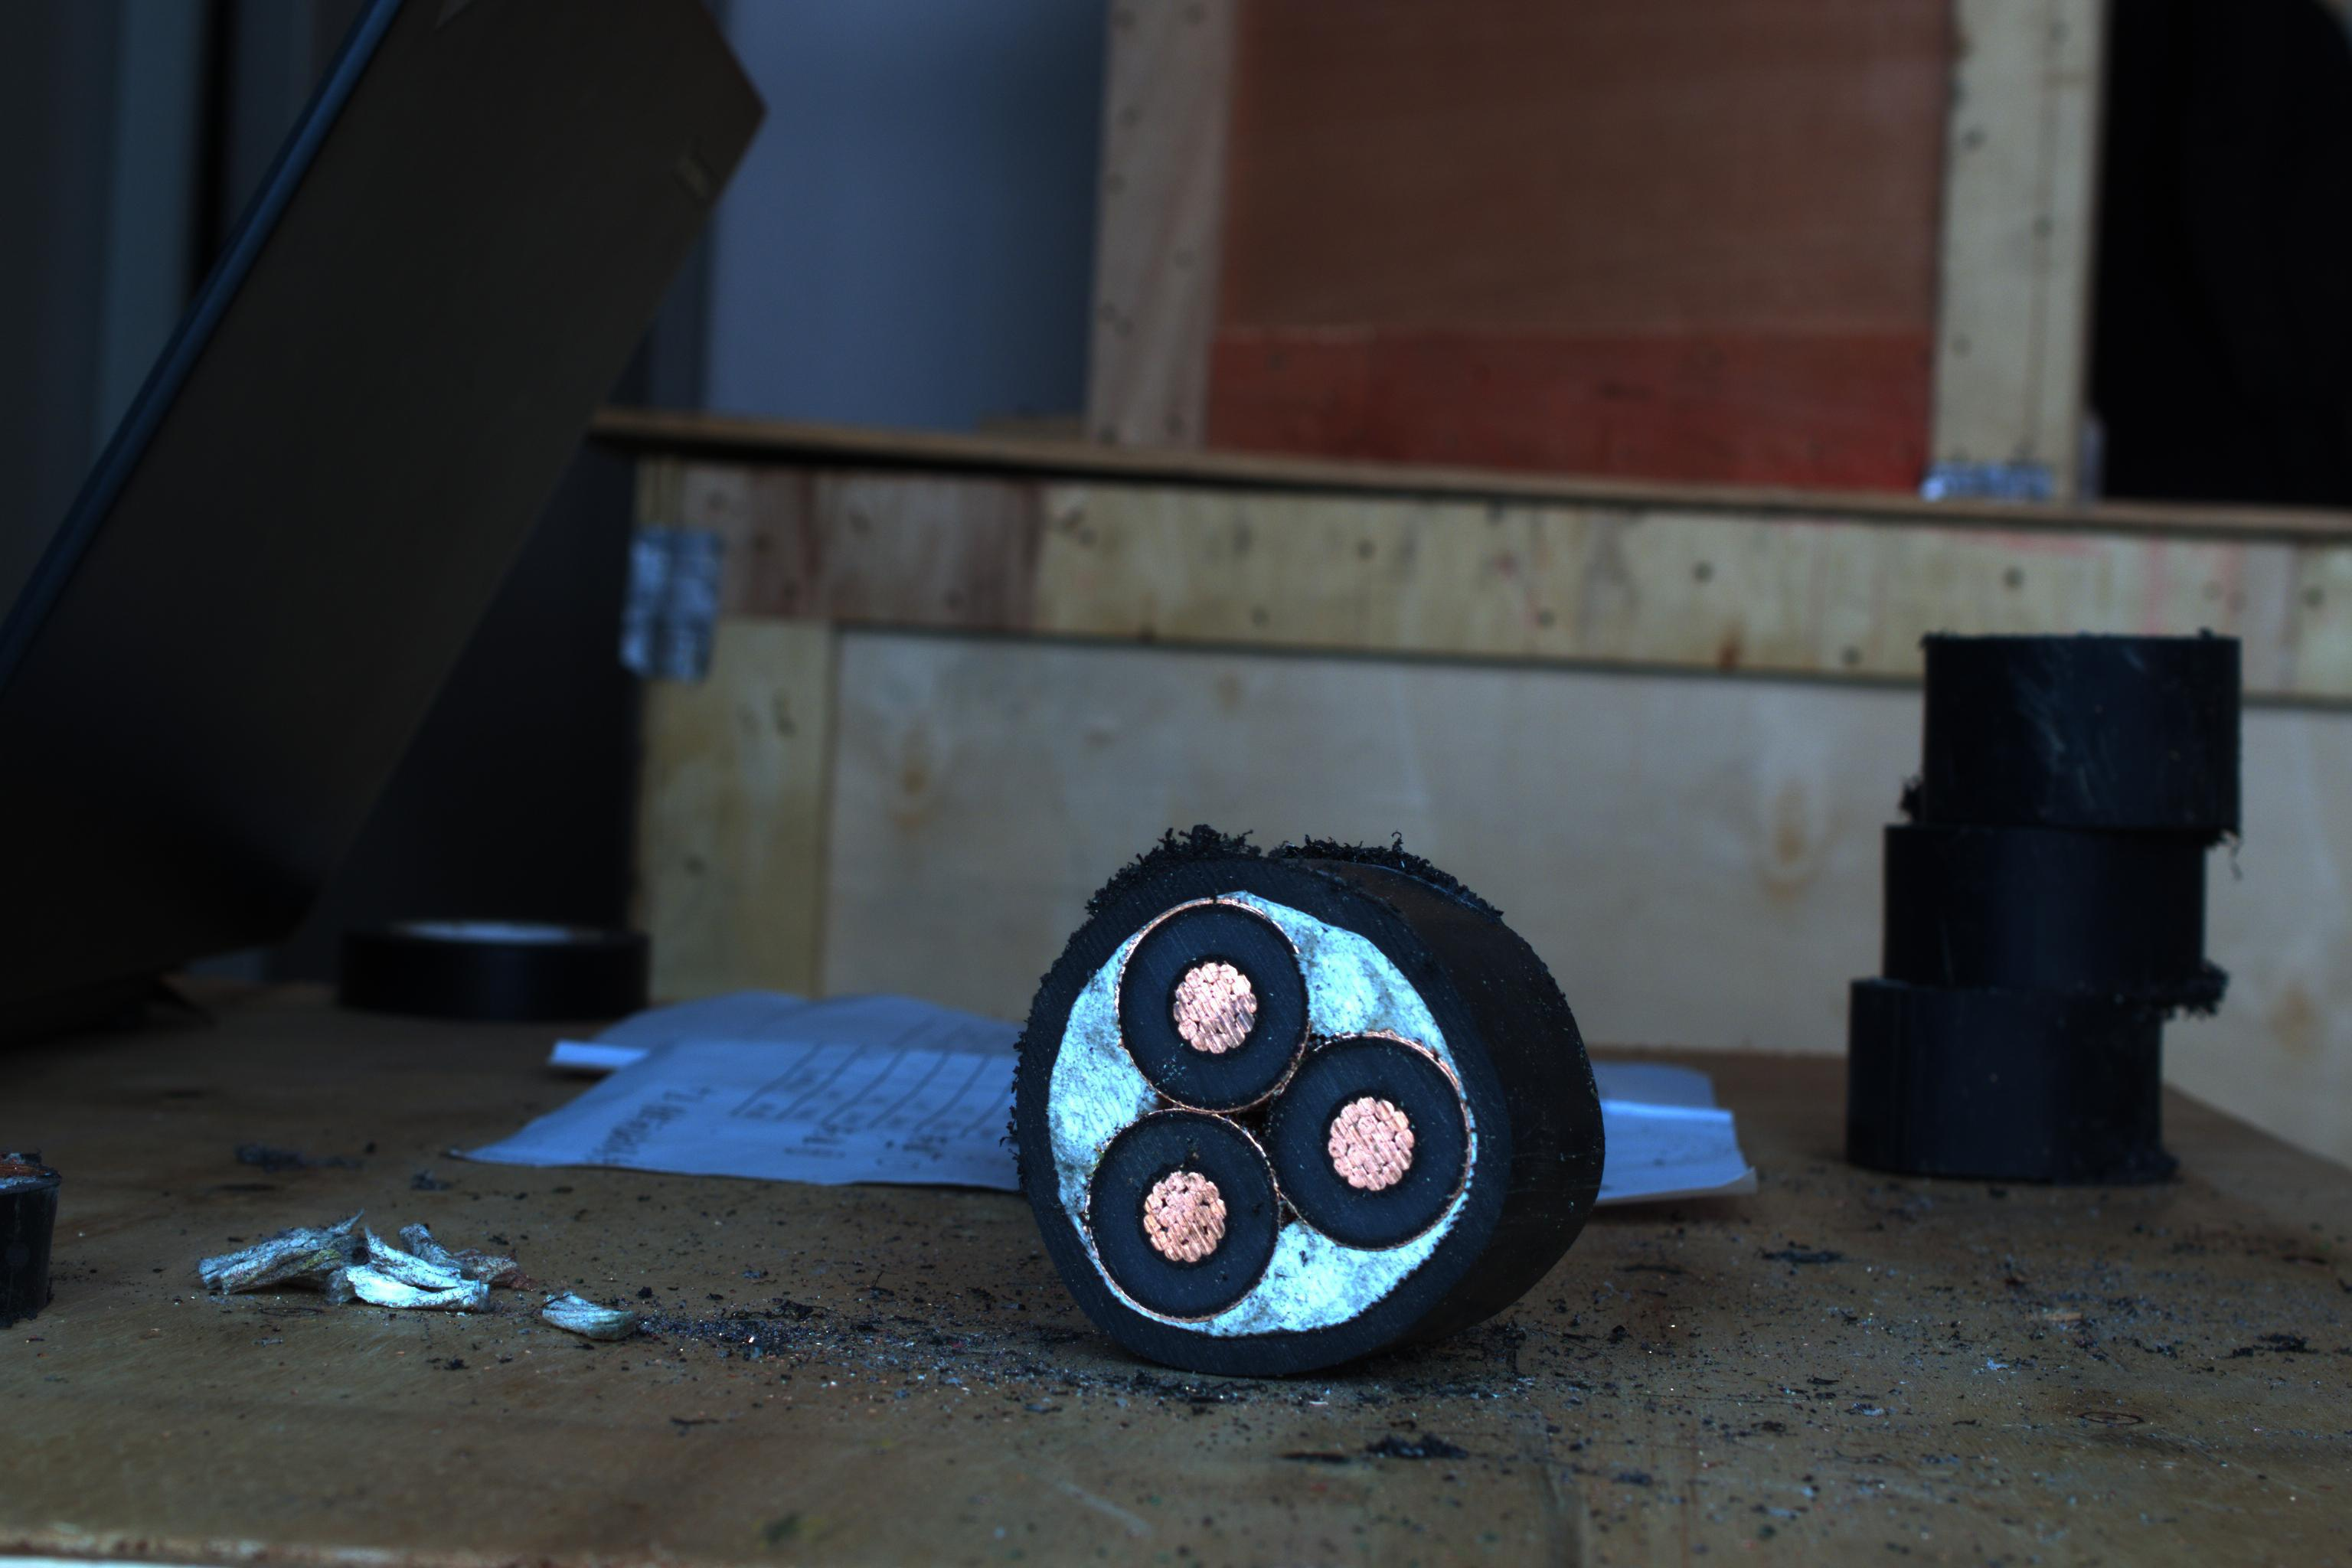YJV_8.7_10kV_3x70: (1010, 854, 1479, 1361)
